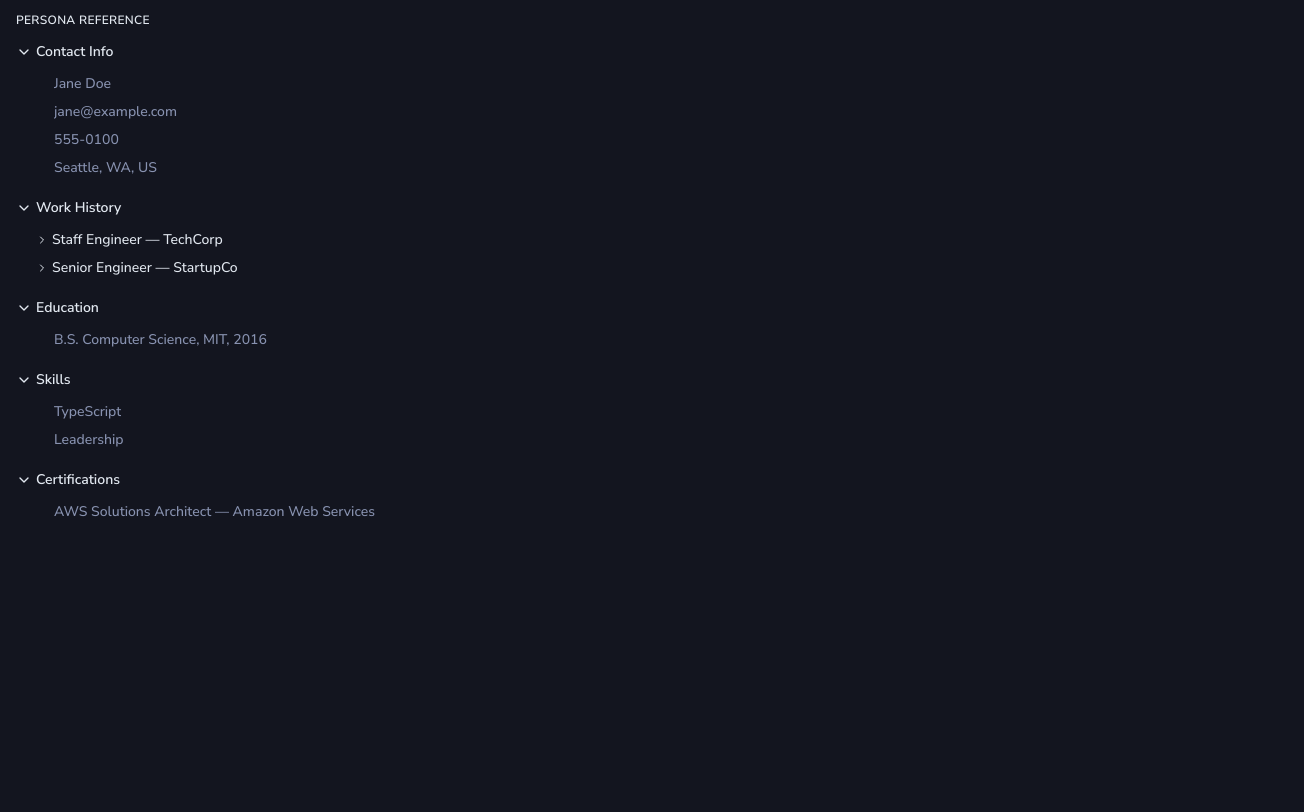
Test case: PersonaReferencePanel › work history section › shows empty message for jobs with no bullets
Click the button "Senior Engineer — StartupCo" at {"x": 102, "y": 268}, box [32,256,1292,280]
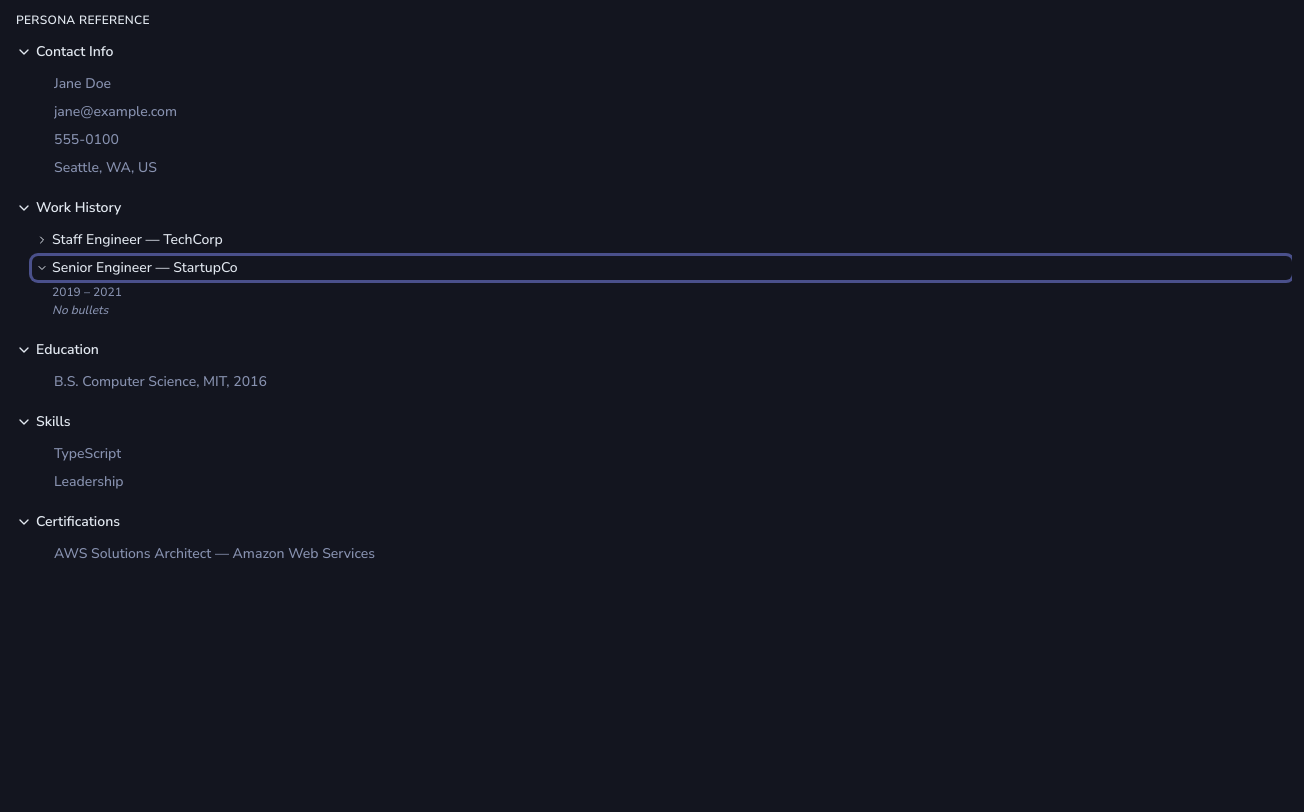
Check: the text "No bullets" is shown, box [52,302,108,318]
